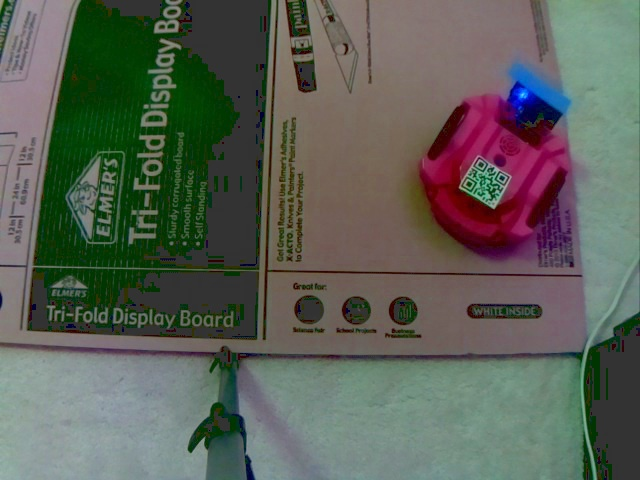board: (497, 61, 577, 131)
chassis: (417, 61, 573, 244)
